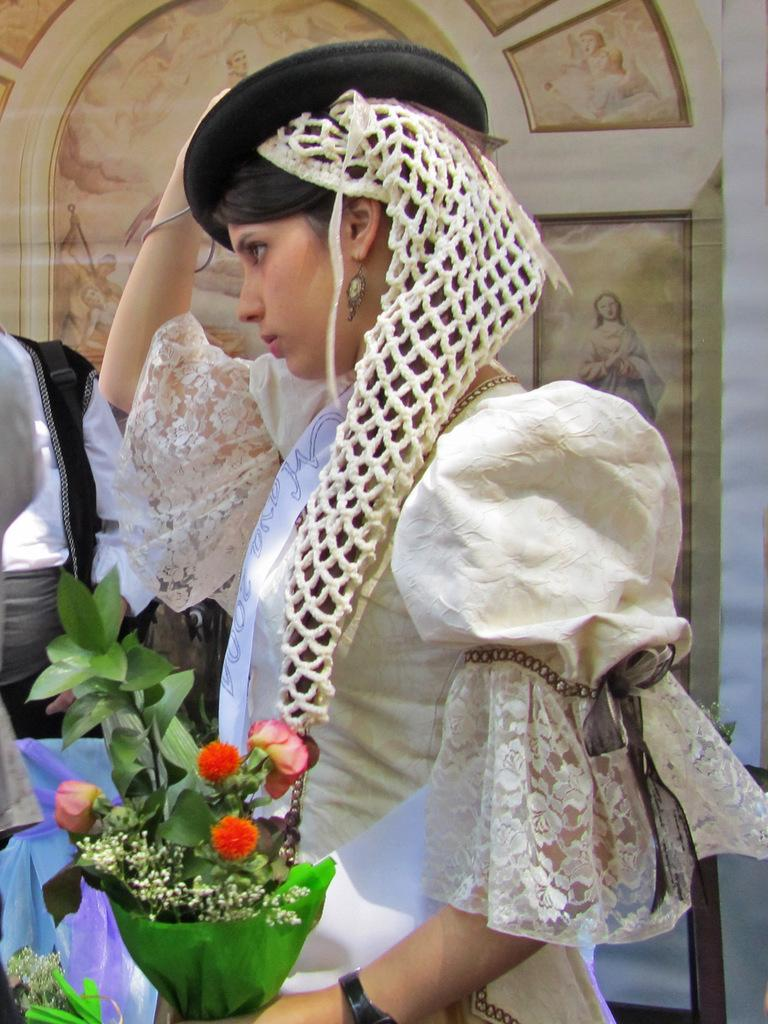Hat: (182, 42, 490, 254)
